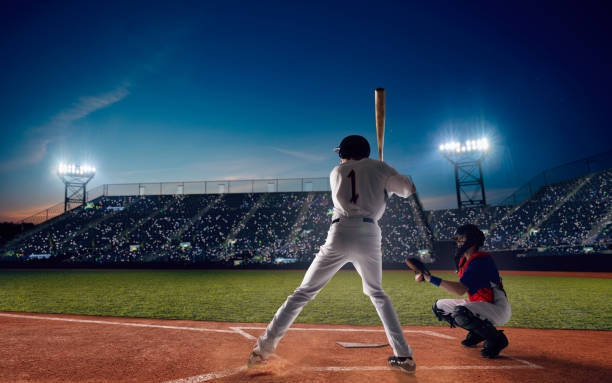bita: (371, 87, 395, 159)
